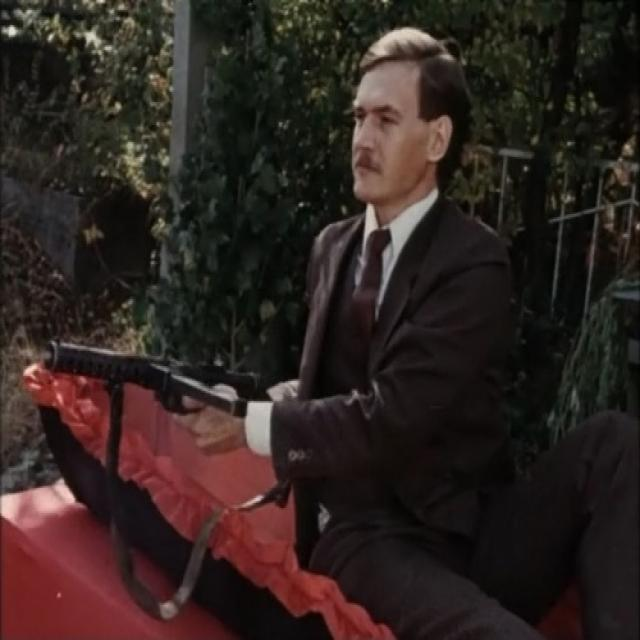rifle: (37, 333, 273, 414)
